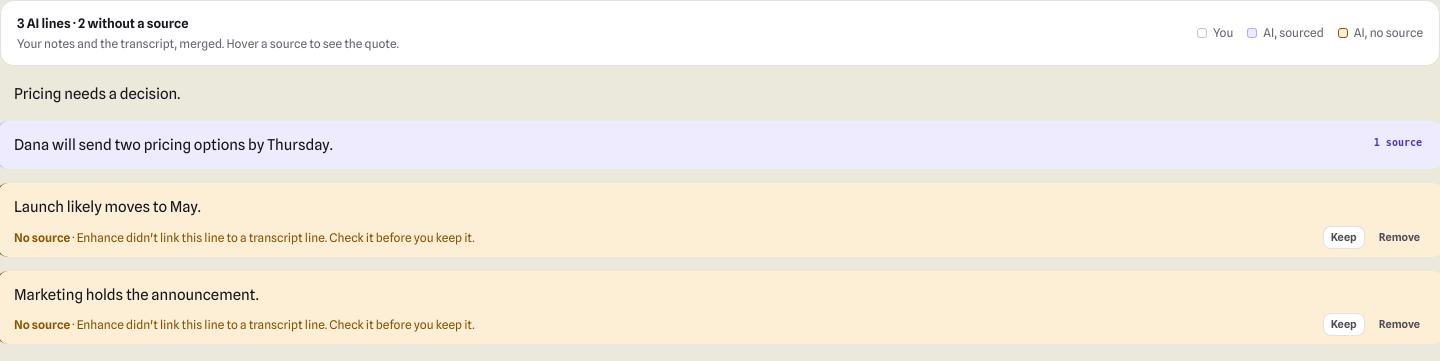
Remove with undo › if that delete fails, the first line comes back with the error
The width and height of the screenshot is (1440, 361).
Click the 1st button "Remove". click: (1399, 237)
box: [1371,226,1428,248]
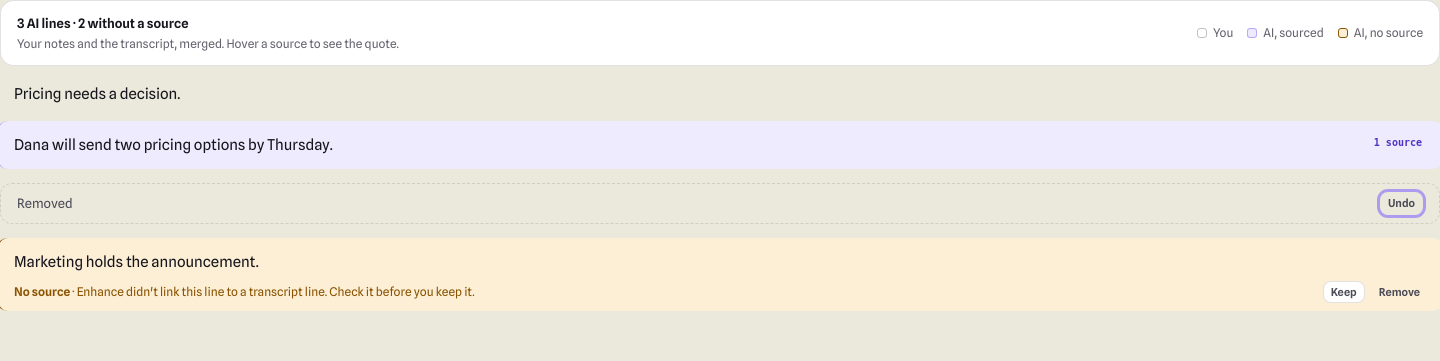
Click the button "Remove". click: (1399, 292)
box: [1371,280,1428,303]
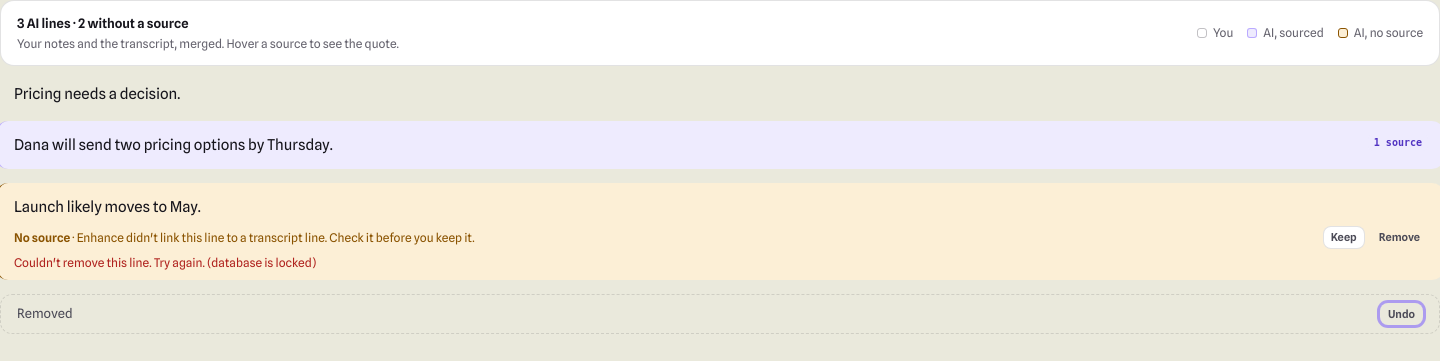
expect the element that starts with "Launch likely moves to May." is shown: met, box [14,198,201,216]
expect the message "Couldn't remove this line. Try again. (database is locked)" is shown: met, box [14,254,316,270]
expect the message "Removed Undo" is shown: met, box [0,294,1439,334]
